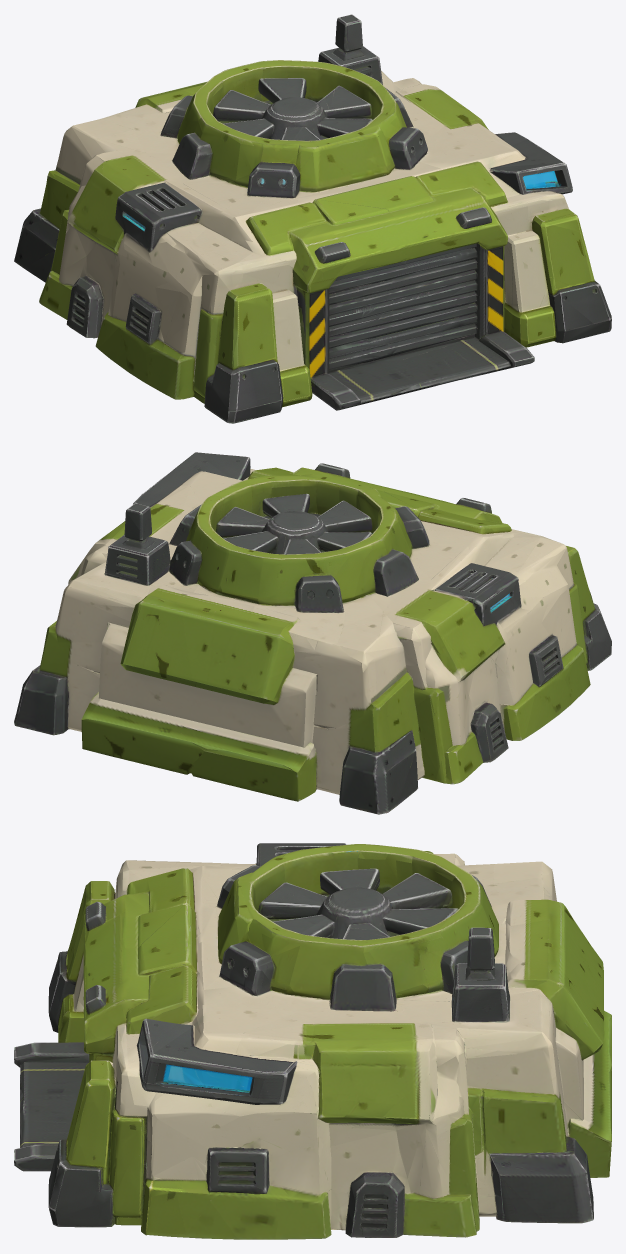
File: m03_vehicle_factory.glb
3 views of the same model, one above another, from view 1: azimuth 30°, elevation 25°; view 2: azimuth 150°, elevation 25°; view 3: azimuth 270°, elevation 25° (orthographic). The views are drawn at different scales.
Bounding box in the file's own units: 1.9 × 0.8571 × 1.9.
Materials: 1 (1 with a texture image).
